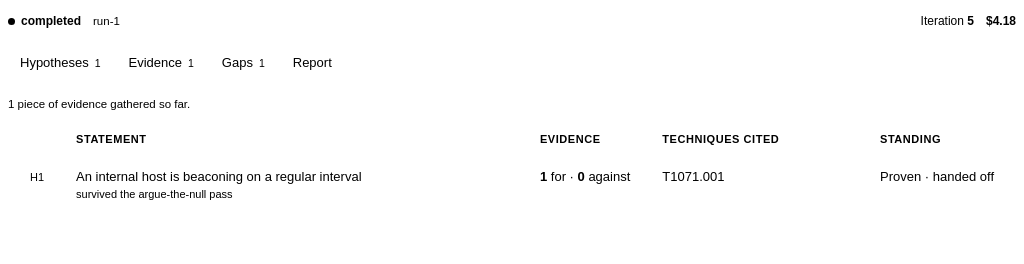
Test: what the hunt has actually gathered › shows a gap while the run is still going, before any report exists
The image size is (1024, 264).
Click the tab "Gaps1" at (243, 62), box [210,49,277,76]
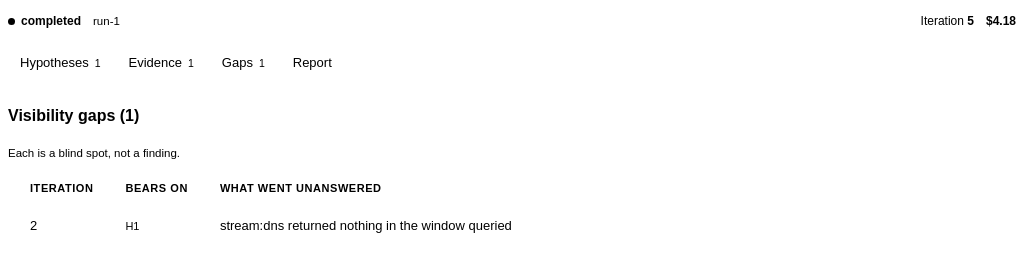
Check: the heading "Visibility gaps (1)" is shown, box [8,107,139,124]
Check: the text "stream:dns returned nothing in the window queried" is shown, box [204,204,1016,247]
